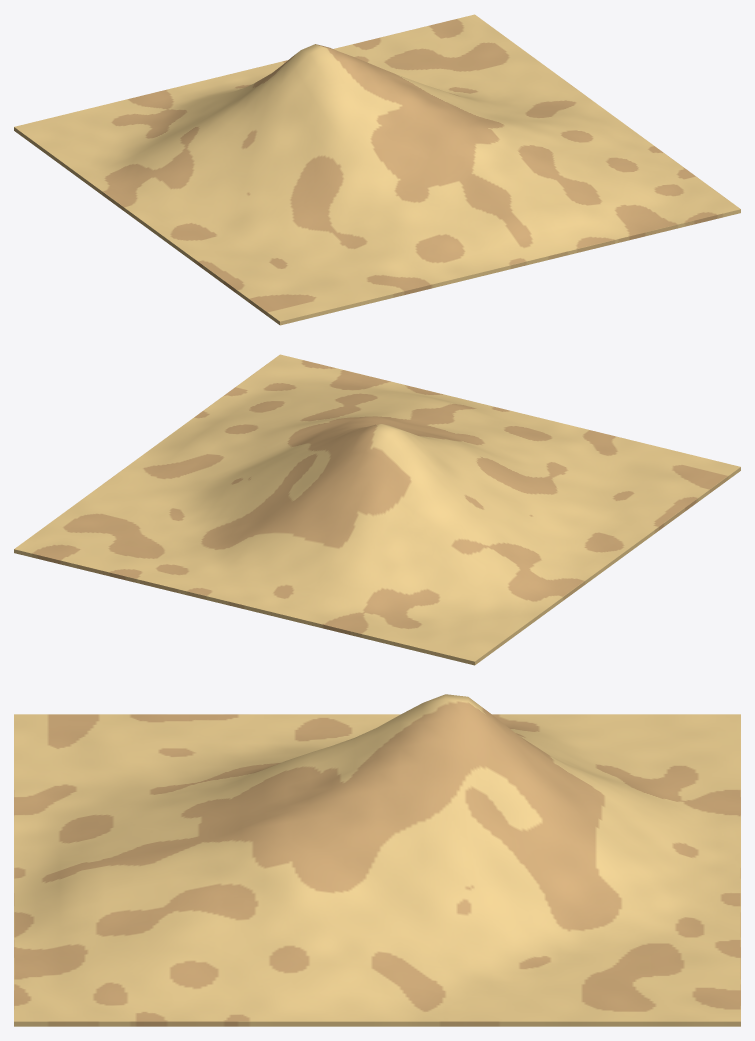
The model's file is Desert_Mountains_03.obj.
3 views of the same model, one above another, from view 1: azimuth 30°, elevation 25°; view 2: azimuth 150°, elevation 25°; view 3: azimuth 270°, elevation 25° (orthographic). The views are drawn at different scales.
Bounding box in the file's own units: 10 × 2.35 × 10.
Materials: 1 (1 with a texture image).
